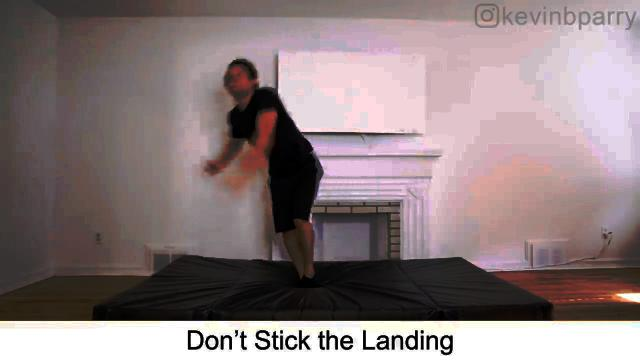jatuh: (186, 57, 334, 300)
